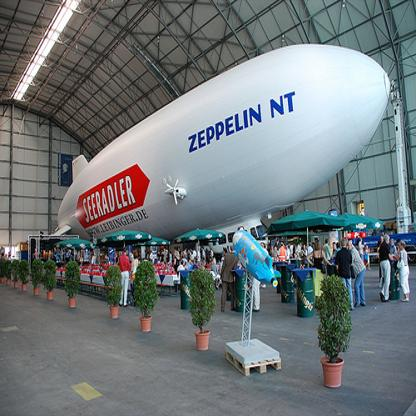Airship: (53, 43, 392, 233)
